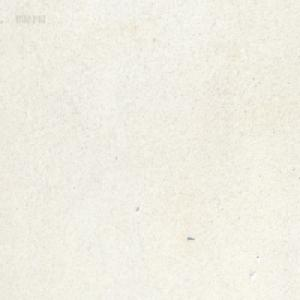Nail: (187, 235, 194, 241)
